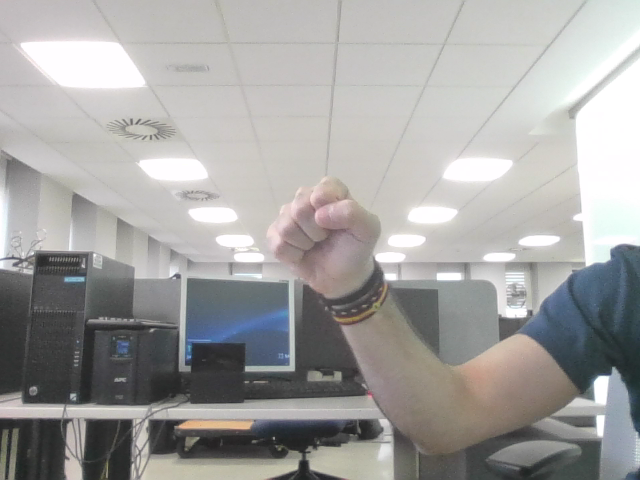Puño: (276, 188, 364, 258)
